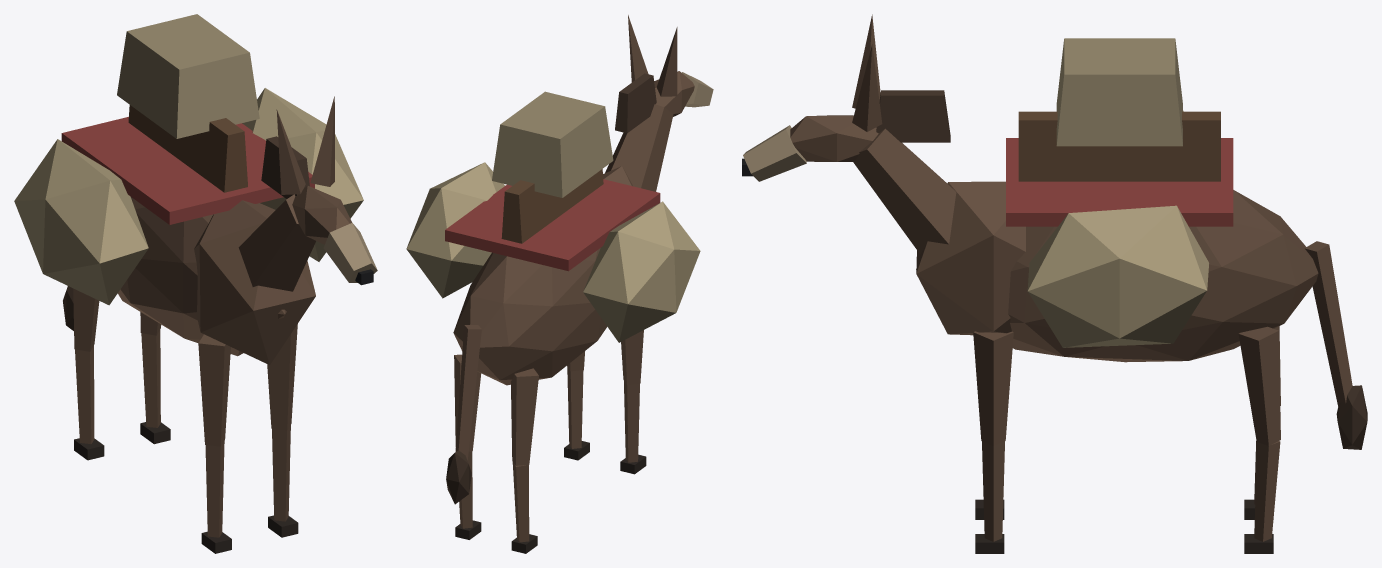
The model's file is mule.glb.
The picture shows the model from 3 angles, left to right: view 1: azimuth 30°, elevation 25°; view 2: azimuth 150°, elevation 25°; view 3: azimuth 270°, elevation 25°; orthographic projection. The views are drawn at different scales.
Visible parts, largest first — view 1: mule; view 2: mule; view 3: mule.
Part boxes in pixels (x1,y1,x2,y2): mule: (14,14,377,553); mule: (406,15,713,553); mule: (742,14,1367,553).
Bounding box in the file's own units: 1.4 × 2.2 × 2.48.
